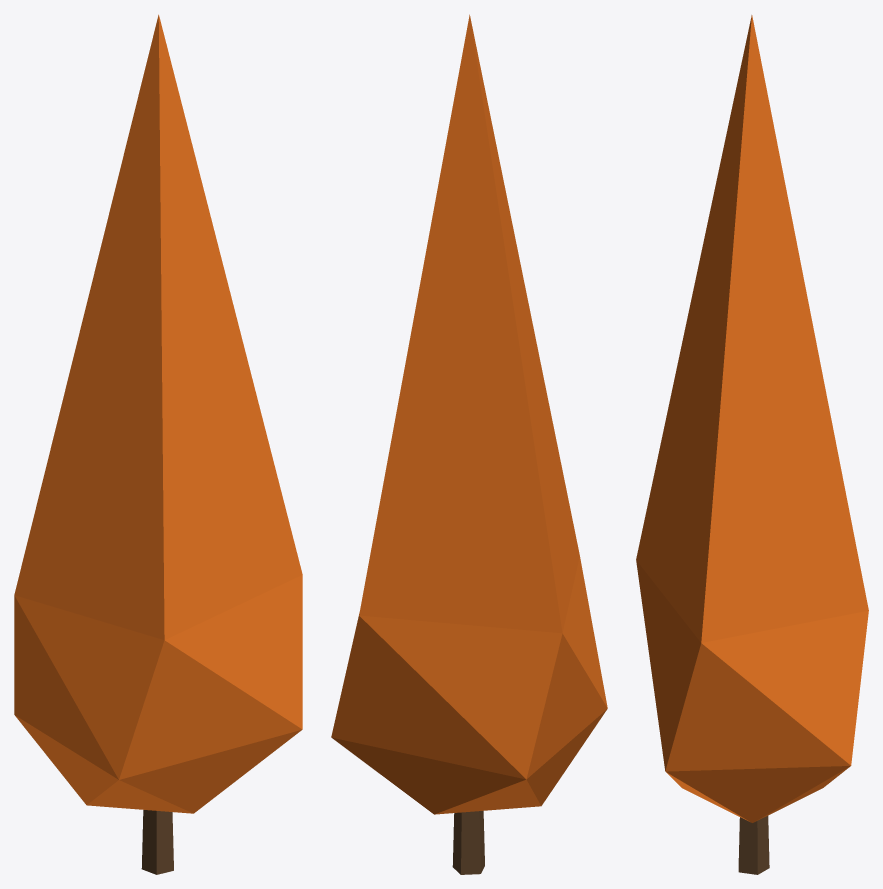
The model's file is tree-poplar_orange.glb.
3 views of the same model, side by side, from view 1: azimuth 30°, elevation 25°; view 2: azimuth 150°, elevation 25°; view 3: azimuth 270°, elevation 25° (orthographic).
Parts seen in each view (by area): view 1: tree-poplar_orange; view 2: tree-poplar_orange; view 3: tree-poplar_orange.
Boxes of the visible parts, x1,y1,x2,y2 form: tree-poplar_orange: (14, 14, 302, 874); tree-poplar_orange: (331, 14, 607, 874); tree-poplar_orange: (636, 15, 868, 874).
Size of the model in its own units: 2.21 by 7.62 by 1.88.
1 material, 1 textured.
